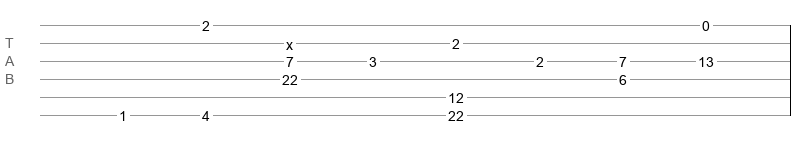0: (702, 18, 710, 28)
1: (119, 108, 127, 118)
12: (448, 90, 464, 100)
13: (698, 54, 714, 64)
2: (202, 18, 210, 28), (452, 36, 460, 46), (536, 54, 544, 64)
22: (282, 72, 298, 82), (448, 108, 464, 118)
3: (369, 54, 377, 64)
4: (202, 108, 210, 118)
6: (619, 72, 627, 82)
7: (286, 54, 294, 64), (619, 54, 627, 64)
x: (286, 37, 293, 45)
